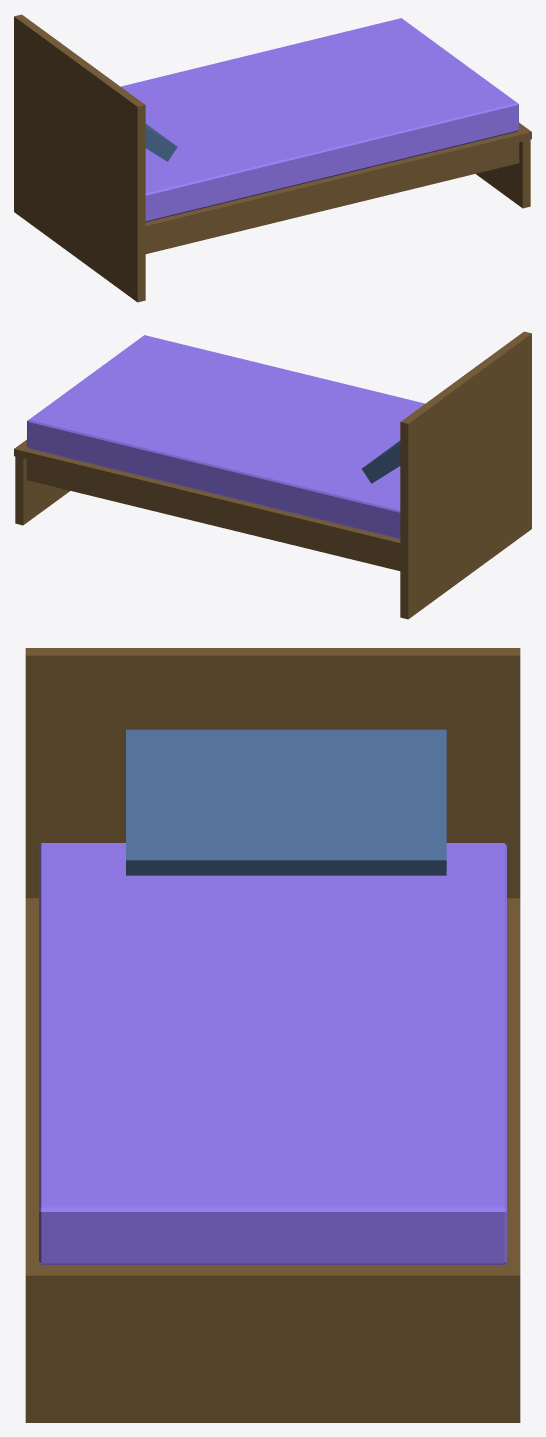
File: bed.fbx
3 views of the same model, one above another, from view 1: azimuth 30°, elevation 25°; view 2: azimuth 150°, elevation 25°; view 3: azimuth 270°, elevation 25° (orthographic). The views are drawn at different scales.
Visible parts, largest first — view 1: bed2, Cube; view 2: bed2, Cube; view 3: bed2, Cube.
Part boxes in pixels (box(x1,y1,x2,y2)): bed2: box(14, 14, 531, 302); Cube: box(145, 124, 177, 161); bed2: box(14, 331, 531, 619); Cube: box(362, 441, 400, 483); bed2: box(25, 648, 520, 1422); Cube: box(126, 729, 446, 875).
Bounding box in the file's own units: 211 × 100 × 115.
